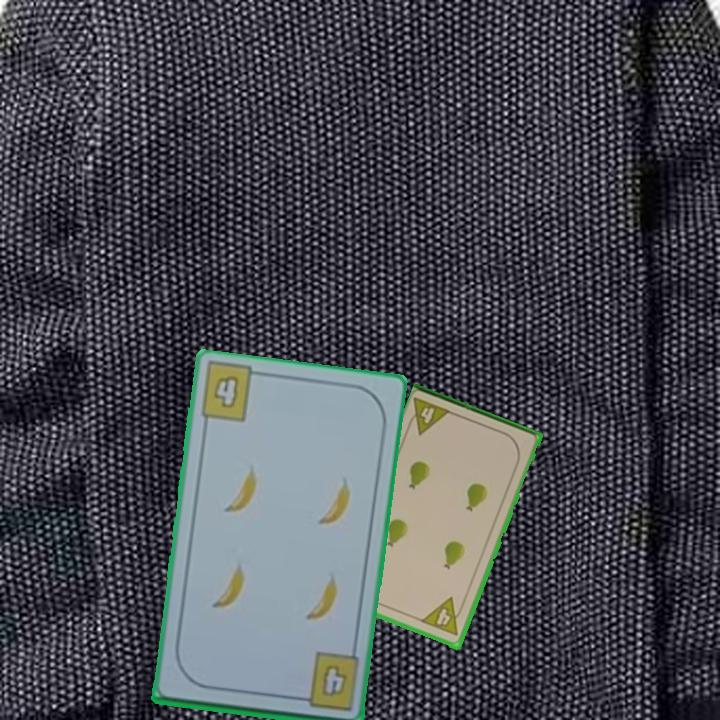4b: (291, 649, 359, 714), (209, 371, 241, 411)
4p: (403, 394, 455, 439), (418, 594, 468, 639)
